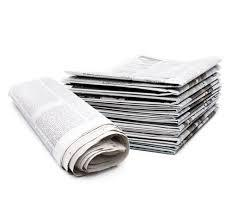Printing industry: (8, 16, 230, 209)
